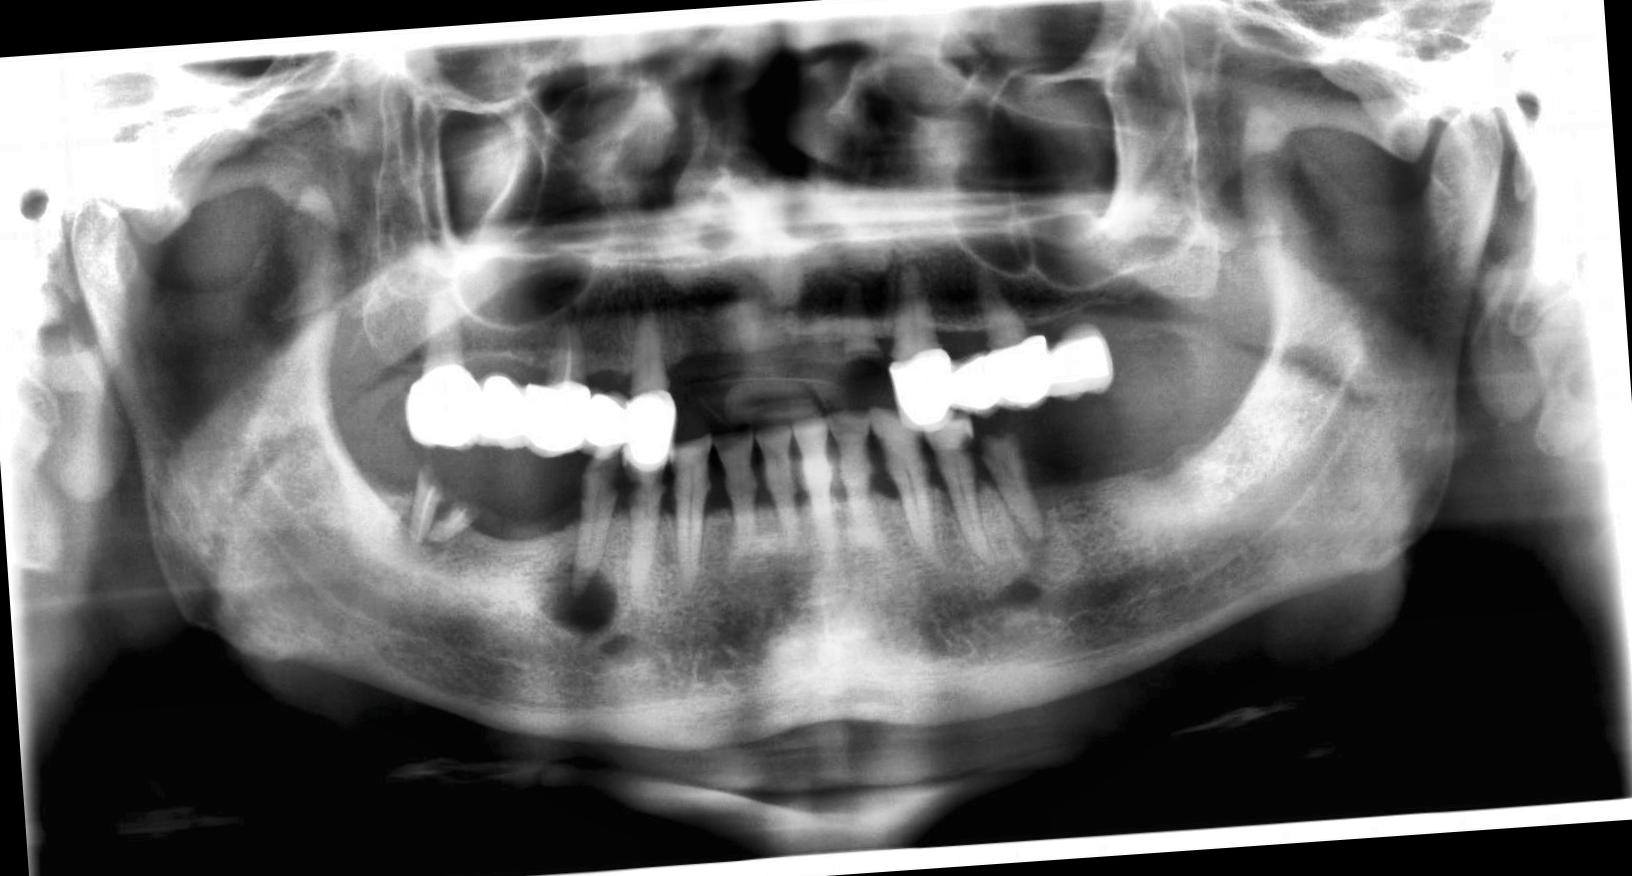radicular: (530, 555, 625, 646)
